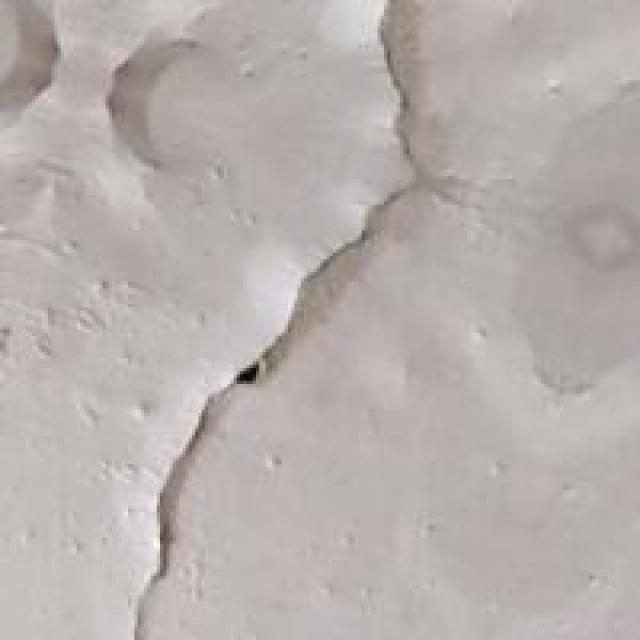Crack: (77, 3, 525, 637)
